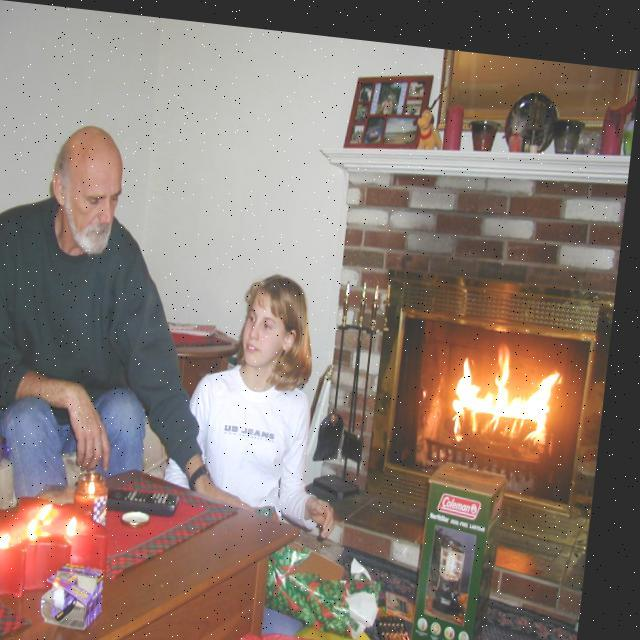Fire: (436, 331, 579, 443)
